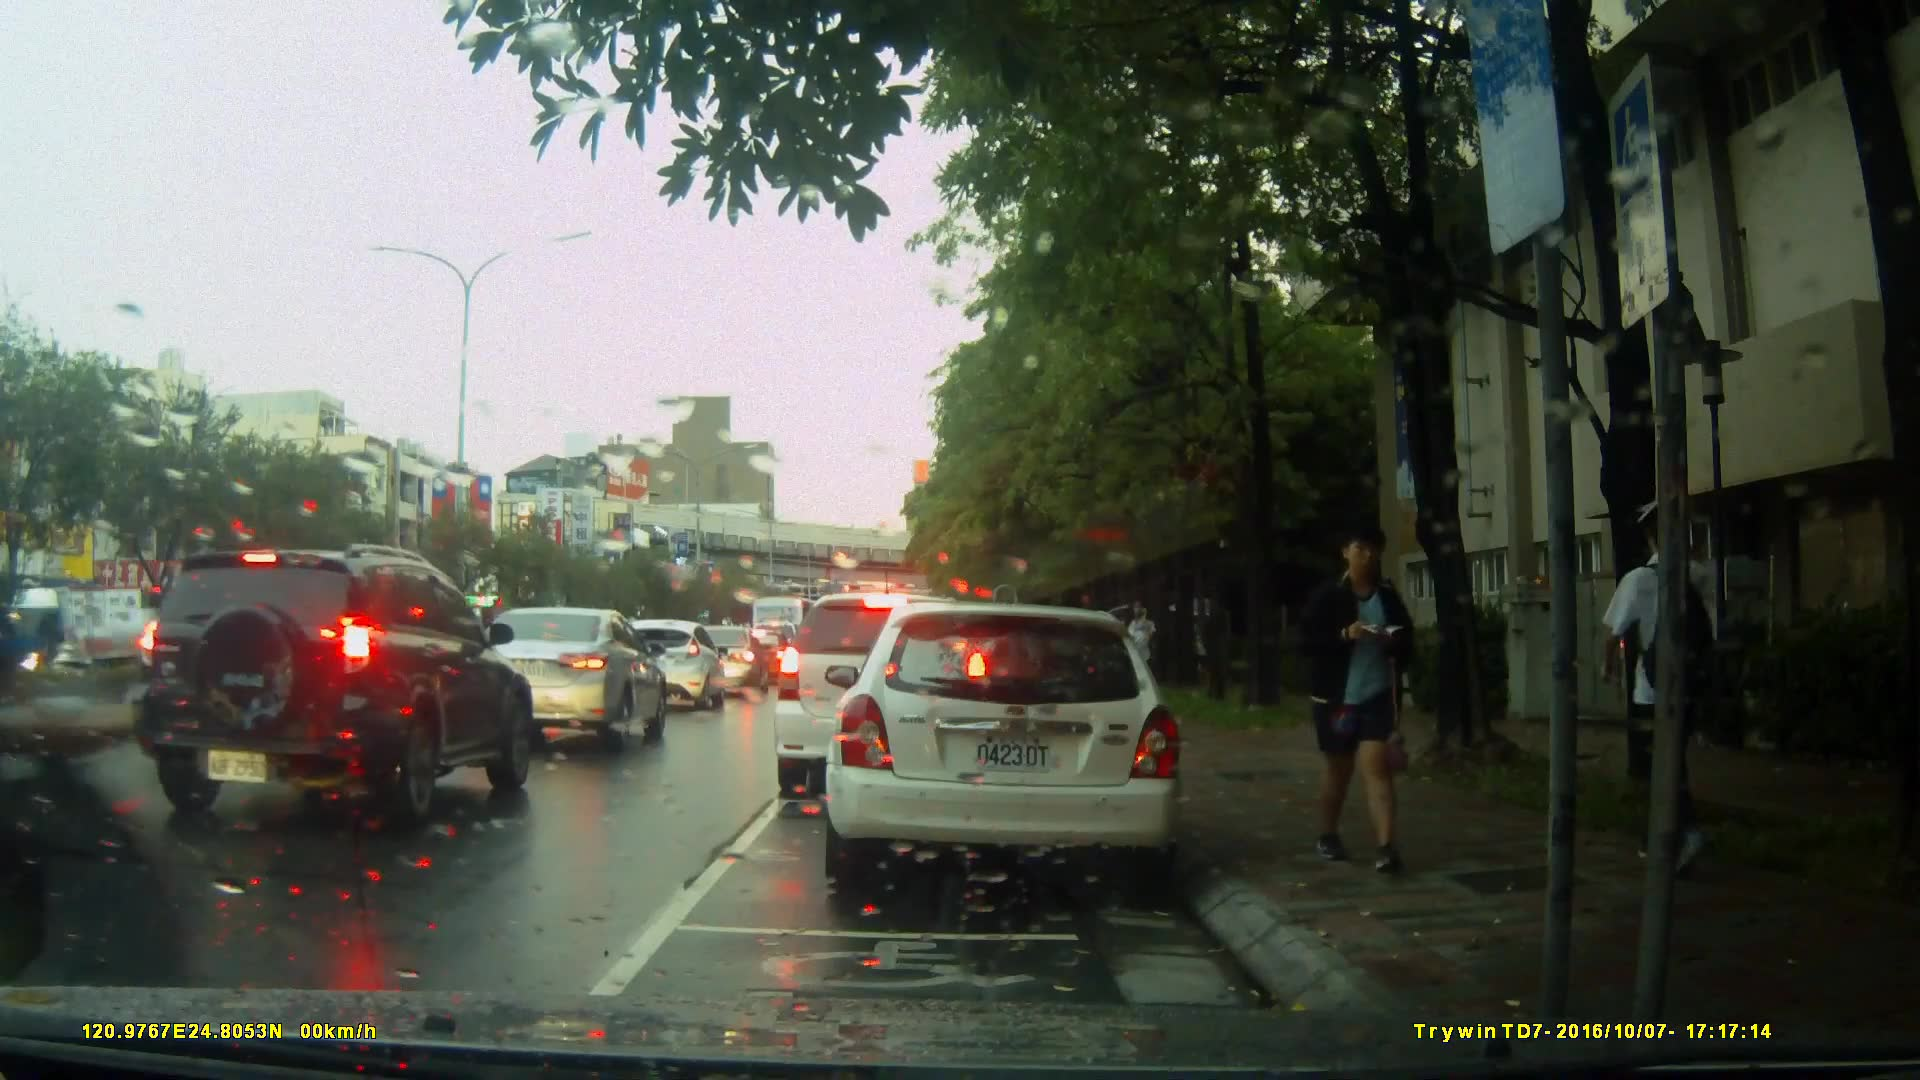pedestrian: (1592, 463, 1743, 886), (1282, 515, 1440, 880), (1119, 588, 1163, 730)
rider: (1, 417, 212, 1069)
vehicle: (125, 542, 535, 834), (815, 593, 1199, 896), (770, 590, 995, 802), (465, 607, 677, 751), (1, 584, 150, 686), (604, 617, 730, 713), (687, 625, 763, 691)
